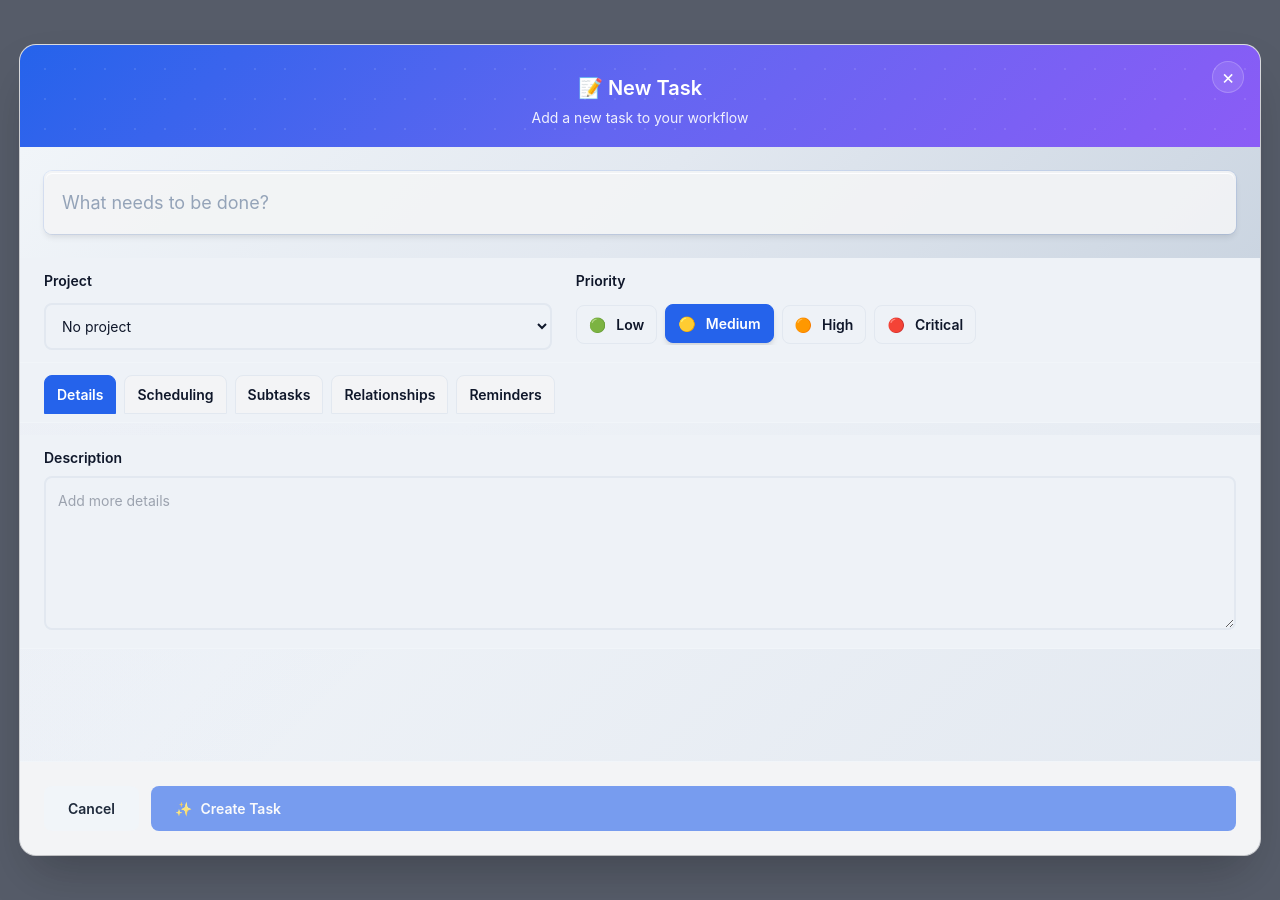
Test: TaskForm › handles priority selection
Click High priority chip and ensure it is selected via aria-pressed
Click the button titled "High" at (824, 324), box [782,304,866,344]
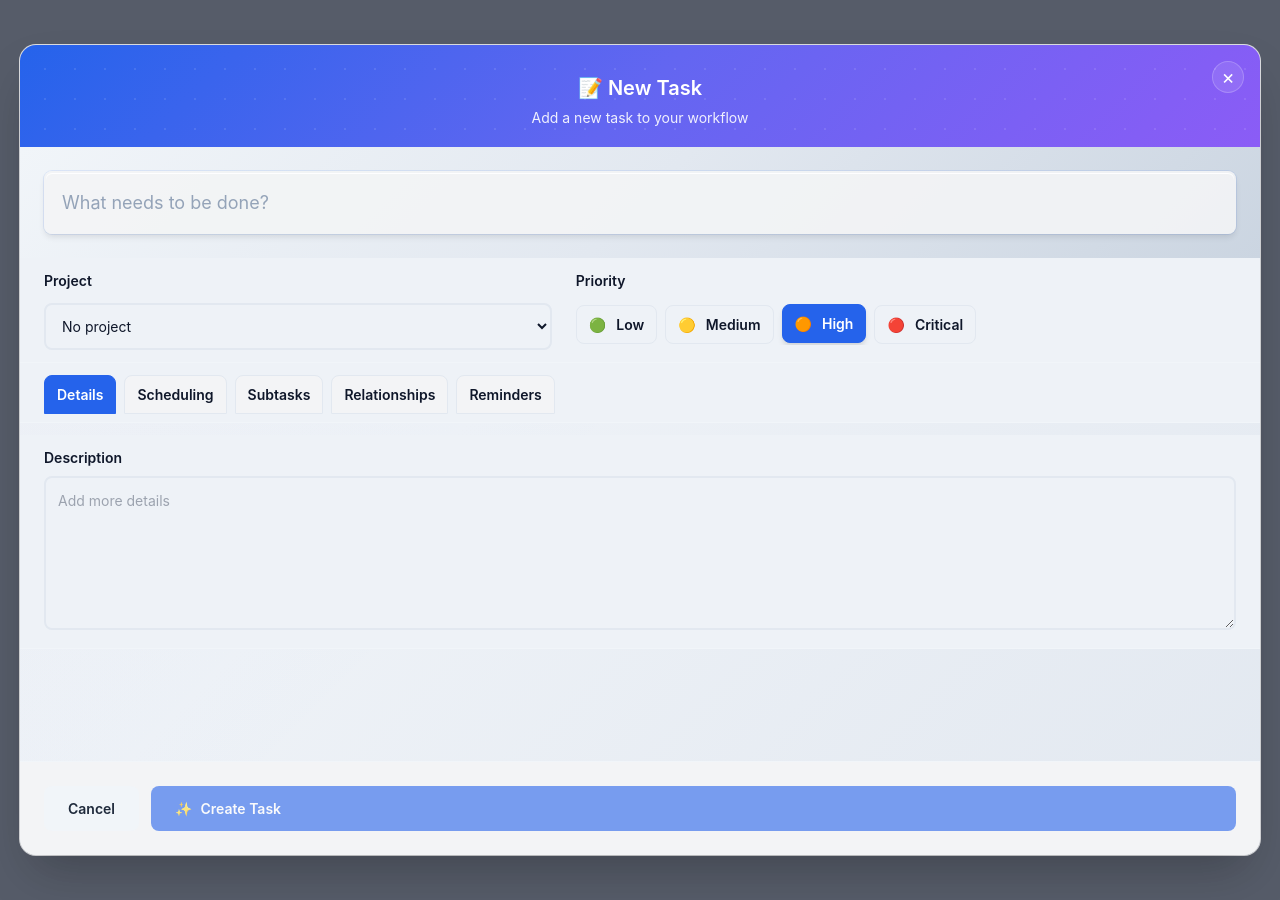
Expected: the button titled "High" is pressed, [782,304,866,342]
